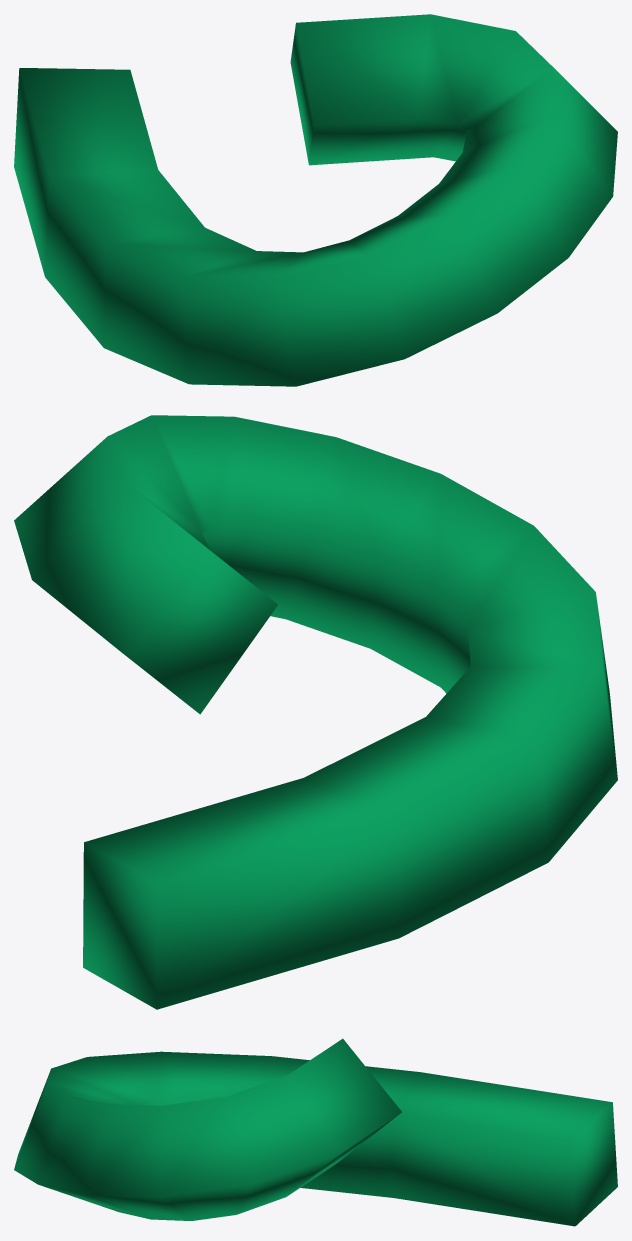
Rendered from flagellum.dae.
3 renders of one model, top to bottom at view 1: azimuth 30°, elevation 25°; view 2: azimuth 150°, elevation 25°; view 3: azimuth 270°, elevation 25°, orthographic. The views are drawn at different scales.
Visible parts, largest first — view 1: BezierCurve; view 2: BezierCurve; view 3: BezierCurve.
Part boxes in pixels (left/top/right/bottom): BezierCurve: left=14, top=14, right=617, bottom=386; BezierCurve: left=14, top=415, right=617, bottom=1009; BezierCurve: left=14, top=1038, right=617, bottom=1226.
Size of the model in its own units: 0.6083 by 0.8301 by 0.3219.
